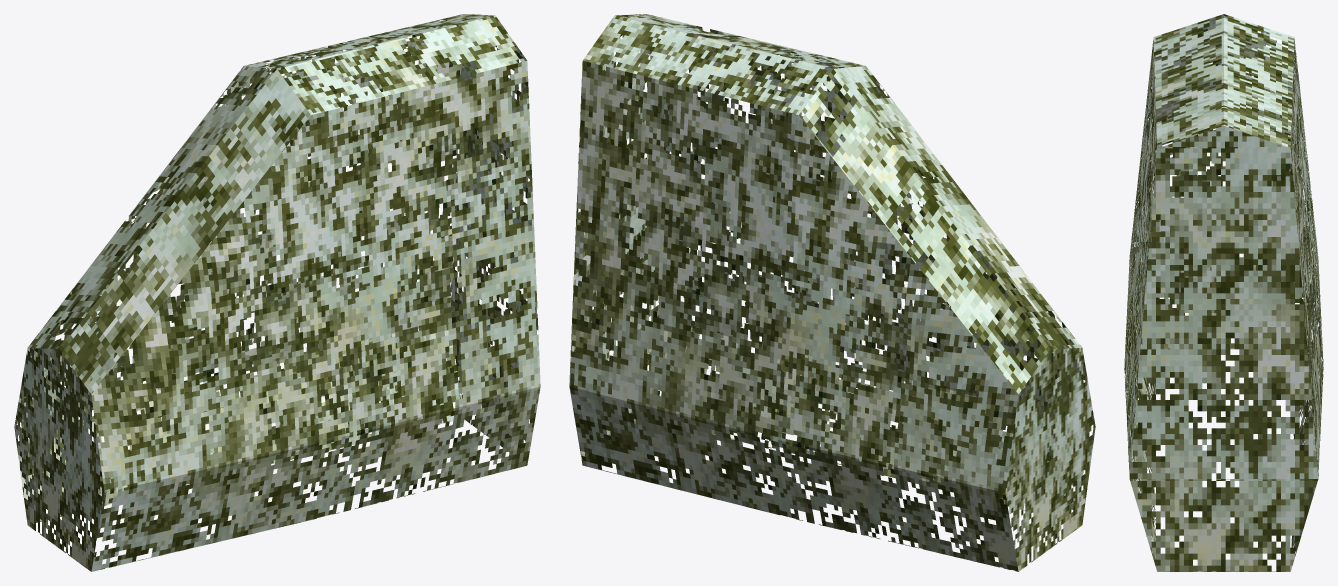
Rendered from bush_connector_winter.glb.
3 views of the same model, side by side, from view 1: azimuth 30°, elevation 25°; view 2: azimuth 150°, elevation 25°; view 3: azimuth 270°, elevation 25° (orthographic). The views are drawn at different scales.
Visible parts, largest first — view 1: bush_connector_winter; view 2: bush_connector_winter; view 3: bush_connector_winter.
Part boxes in pixels (x1,y1,x2,y2): bush_connector_winter: (14,14,540,571); bush_connector_winter: (569,14,1095,571); bush_connector_winter: (1124,14,1323,571).
Bounding box in the file's own units: 2.01 × 1.88 × 0.7592.
1 material, 1 textured.
